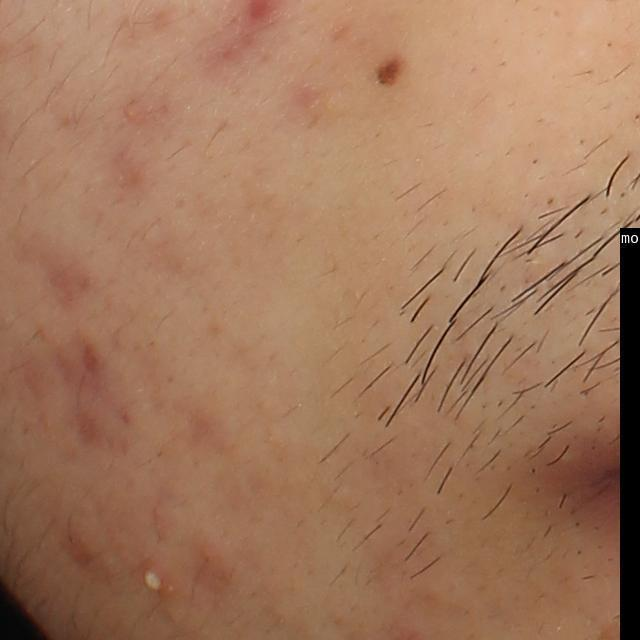nevus: (372, 50, 403, 83)
pustule: (134, 555, 171, 606)
